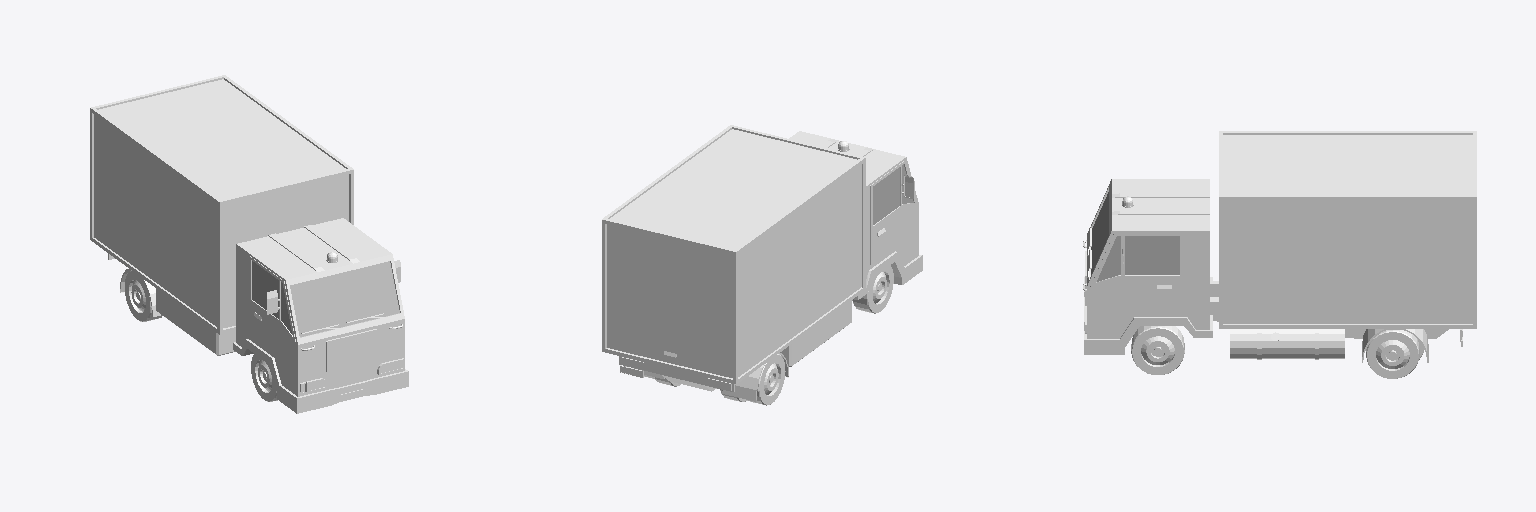
The model's file is truck.obj.
3 views of the same model, side by side, from view 1: azimuth 30°, elevation 25°; view 2: azimuth 150°, elevation 25°; view 3: azimuth 270°, elevation 25° (orthographic).
Parts seen in each view (by area): view 1: 1_Mesh.010, cabin_Mesh.021, Cube_Mesh.003, Cube.001_Cube, front_wheel_2.003_Mesh.040, front_wheel_2.001_Mesh.038; view 2: 1_Mesh.010, cabin_Mesh.021, Cube_Mesh.003, front_wheel_2.001_Mesh.038, front_wheel_2.003_Mesh.040, 1_2_Mesh.015, back_bumper_Mesh.008; view 3: 1_Mesh.010, cabin_Mesh.021, fuel_reservior_Mesh.006, front_wheel_2_Mesh.020, front_wheel_2.002_Mesh.039, 1_2_Mesh.015.
Part boxes in pixels (x1,y1,x2,y2): 1_Mesh.010: (90,75,353,334); cabin_Mesh.021: (233,218,408,413); Cube_Mesh.003: (156,289,235,355); Cube.001_Cube: (326,329,377,371); front_wheel_2.003_Mesh.040: (125,270,162,321); front_wheel_2.001_Mesh.038: (251,354,277,401); 1_Mesh.010: (602,125,865,383); cabin_Mesh.021: (662,131,922,391); Cube_Mesh.003: (780,300,851,366); front_wheel_2.001_Mesh.038: (852,265,893,313); front_wheel_2.003_Mesh.040: (748,354,785,405); 1_2_Mesh.015: (634,353,788,401); back_bumper_Mesh.008: (619,356,734,391); 1_Mesh.010: (1219,131,1476,328); cabin_Mesh.021: (1084,179,1448,354); fuel_reservior_Mesh.006: (1230,329,1344,359); front_wheel_2_Mesh.020: (1131,326,1184,374); front_wheel_2.002_Mesh.039: (1366,330,1419,378); 1_2_Mesh.015: (1362,329,1428,362).
Bounding box in the file's own units: 0.2011 × 0.262 × 0.5076.